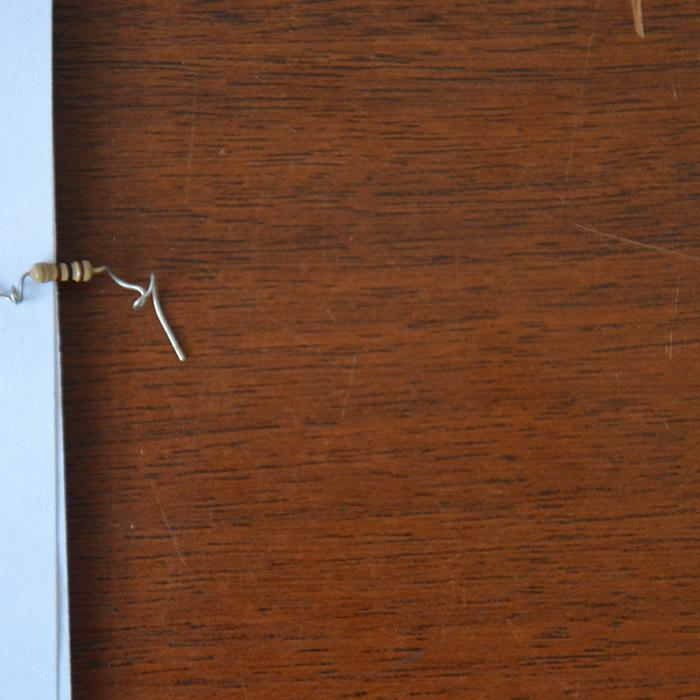resistor: (30, 259, 97, 284)
